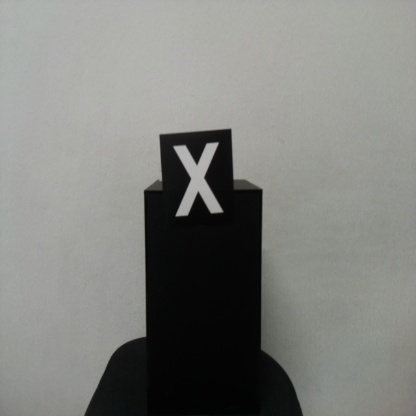id_13: (158, 130, 234, 235)
